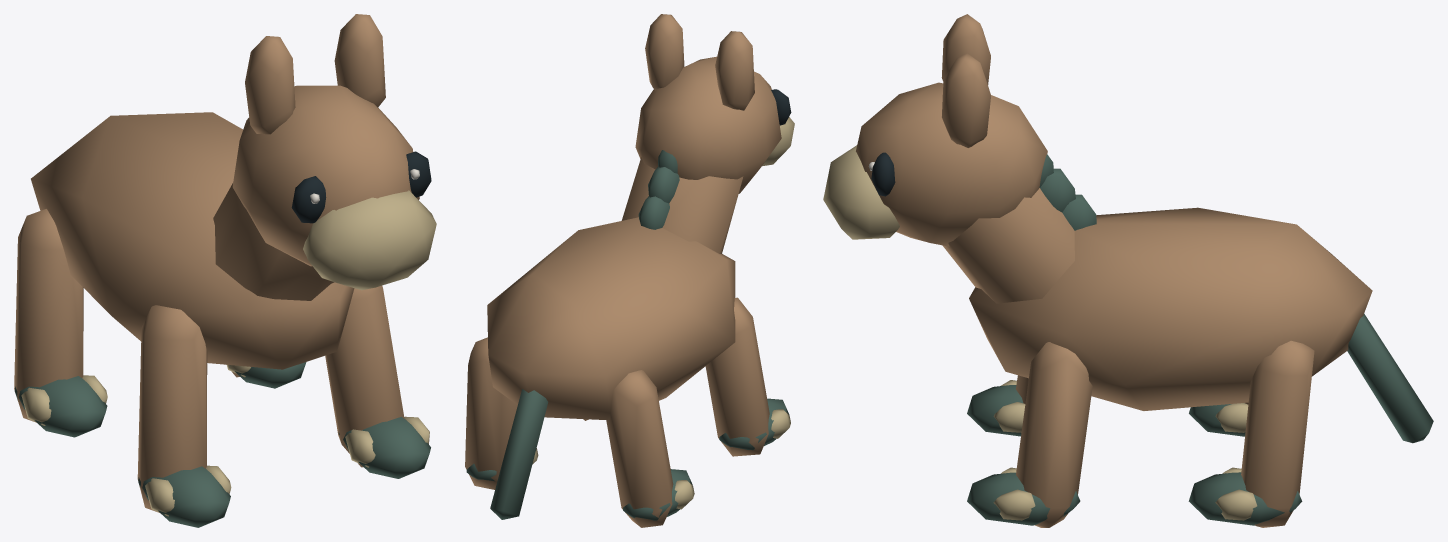
The model's file is org_mesohippus.glb.
The picture shows the model from 3 angles, left to right: view 1: azimuth 30°, elevation 25°; view 2: azimuth 150°, elevation 25°; view 3: azimuth 270°, elevation 25°; orthographic projection. The views are drawn at different scales.
Visible parts, largest first — view 1: Body, Head, Leg_FR, Leg_BR, Leg_FL, Eye_R, Leg_BL, Eye_L; view 2: Body, Head, Leg_BR, Leg_FR, Leg_BL, Tail, Eye_R; view 3: Body, Head, Leg_FL, Leg_BL, Tail, Leg_FR, Leg_BR, Eye_L.
Boxes of the visible parts, <box> form: Body: <box>31,112,354,369</box>; Head: <box>213,14,436,300</box>; Leg_FR: <box>137,305,231,527</box>; Leg_BR: <box>14,209,107,437</box>; Leg_FL: <box>325,285,430,478</box>; Eye_R: <box>291,176,326,223</box>; Leg_BL: <box>226,362,306,388</box>; Eye_L: <box>406,151,431,197</box>; Body: <box>487,217,735,420</box>; Head: <box>621,14,794,253</box>; Leg_BR: <box>606,370,694,527</box>; Leg_FR: <box>705,297,790,456</box>; Leg_BL: <box>465,337,538,489</box>; Tail: <box>490,389,548,519</box>; Eye_R: <box>771,89,791,125</box>; Body: <box>969,207,1372,410</box>; Head: <box>823,14,1096,303</box>; Leg_FL: <box>967,342,1092,527</box>; Leg_BL: <box>1188,340,1314,527</box>; Tail: <box>1347,313,1433,443</box>; Leg_FR: <box>967,375,1028,436</box>; Leg_BR: <box>1189,402,1248,436</box>; Eye_L: <box>869,152,895,196</box>.
Bounding box in the file's own units: 0.4938 × 0.8503 × 1.05.
